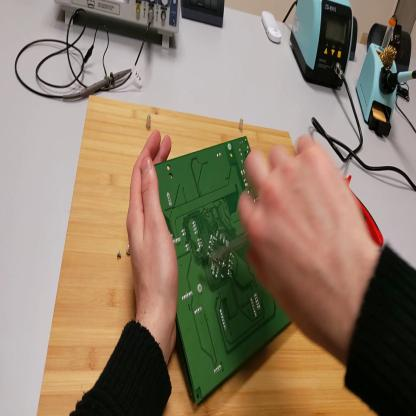hand: (237, 134, 377, 346), (127, 129, 179, 338)
low voltage board: (154, 137, 289, 406)
oscilloscope: (57, 1, 182, 52)
oscilloscope probe tip: (64, 67, 134, 101)
pliers: (343, 175, 385, 248)
screwdriver-: (203, 232, 251, 278)
socket: (369, 21, 412, 67), (351, 18, 360, 62)
welder base: (362, 12, 401, 140)
welder probe tip: (388, 71, 416, 90)
welder station: (293, 1, 355, 89)
working area: (39, 98, 380, 414)
